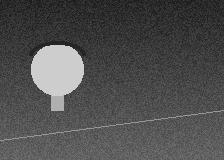no_helmet: (31, 41, 83, 100)
